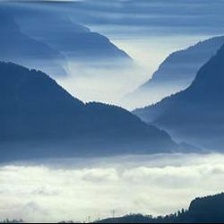neutral: (4, 3, 220, 216)
